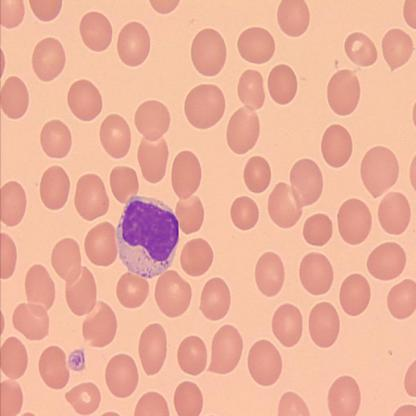Atypical lymphocyte: (118, 195, 179, 279)
